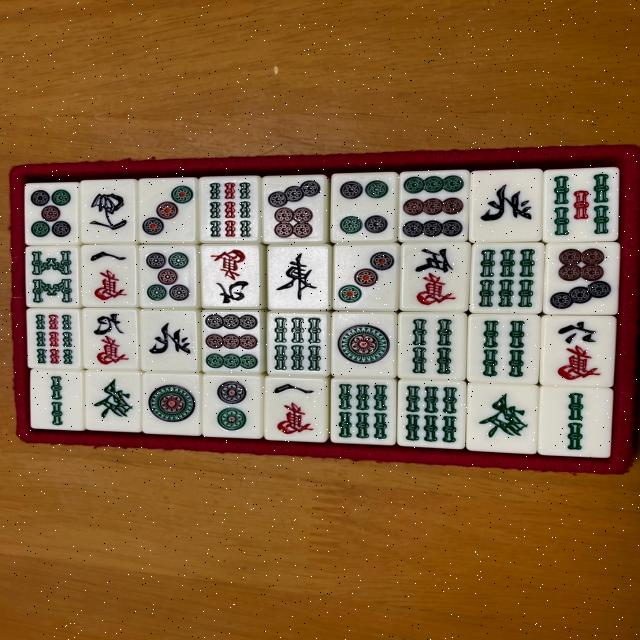bamboos_2: (538, 383, 616, 457), (27, 370, 87, 430)
bamboos_4: (466, 314, 540, 384), (398, 311, 467, 382)
bamboos_5: (541, 164, 619, 243)
bamboos_6: (468, 242, 545, 313), (395, 378, 467, 448), (262, 309, 332, 379), (329, 377, 397, 447)
bamboos_8: (24, 244, 82, 306)
bamboos_9: (199, 176, 261, 243), (25, 306, 84, 371)
characters_1: (262, 376, 328, 442), (78, 244, 137, 308)
characters_5: (398, 240, 468, 314)
characters_6: (540, 314, 617, 388)
characters_9: (199, 242, 265, 311), (78, 305, 141, 369)
circles_1: (330, 311, 400, 379), (140, 370, 200, 436)
circles_2: (200, 374, 264, 440)
circles_3: (328, 241, 402, 312), (137, 176, 200, 245)
circles_4: (331, 172, 399, 245)
circles_5: (138, 244, 199, 310), (25, 181, 79, 245)
circles_7: (541, 242, 622, 316), (260, 174, 330, 244)
circles_9: (398, 170, 469, 241), (199, 309, 269, 376)
east: (262, 245, 331, 311)
green: (465, 381, 539, 454), (84, 369, 142, 433)
north: (468, 168, 546, 243), (138, 308, 204, 373)
west: (80, 178, 140, 245)
